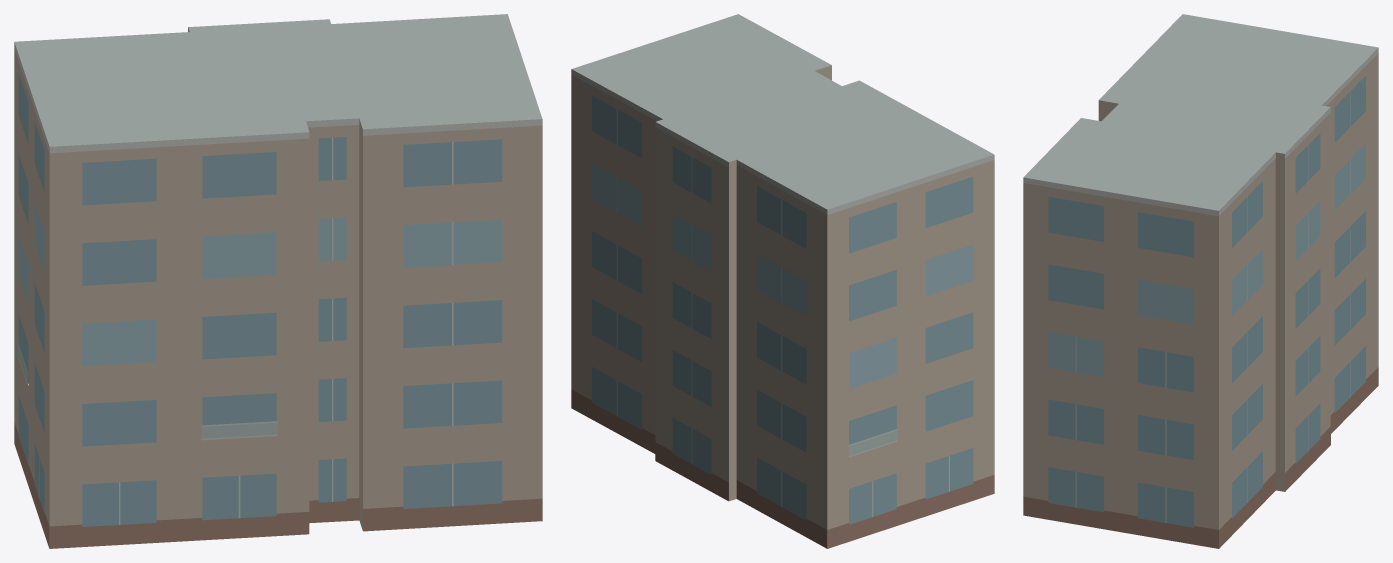
The model's file is survey-upis-32668705.glb.
The picture shows the model from 3 angles, left to right: view 1: azimuth 30°, elevation 25°; view 2: azimuth 150°, elevation 25°; view 3: azimuth 270°, elevation 25°; orthographic projection. The views are drawn at different scales.
Visible parts, largest first — view 1: survey-upis-32668705.tmp; view 2: survey-upis-32668705.tmp; view 3: survey-upis-32668705.tmp.
Boxes of the visible parts, x1=… form: survey-upis-32668705.tmp: x1=14, y1=14, x2=542, y2=548; survey-upis-32668705.tmp: x1=571, y1=14, x2=994, y2=548; survey-upis-32668705.tmp: x1=1023, y1=14, x2=1378, y2=548.
Size of the model in its own units: 19.12 by 15.3 by 14.59.
